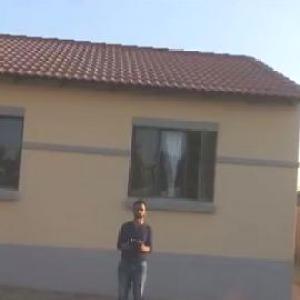follow: (110, 193, 157, 299)
